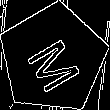M_NE: (20, 26, 86, 92)
